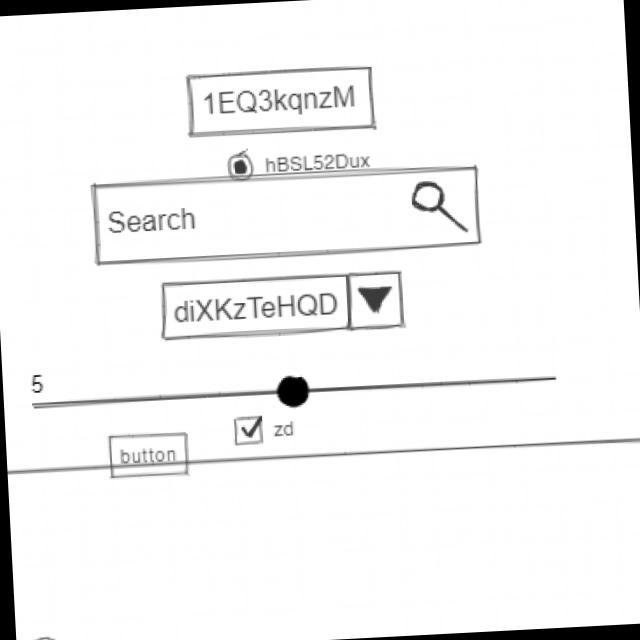button: (187, 62, 383, 143), (109, 427, 196, 484)
checkbox: (230, 412, 303, 448)
container: (8, 433, 640, 640)
icon-button: (24, 634, 65, 640)
radio: (227, 144, 373, 184)
search: (90, 160, 488, 271)
select: (158, 265, 411, 348)
slider: (53, 361, 562, 424)
